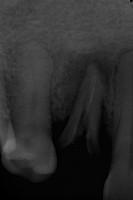Furcation Involvement: (64, 48, 133, 118)
